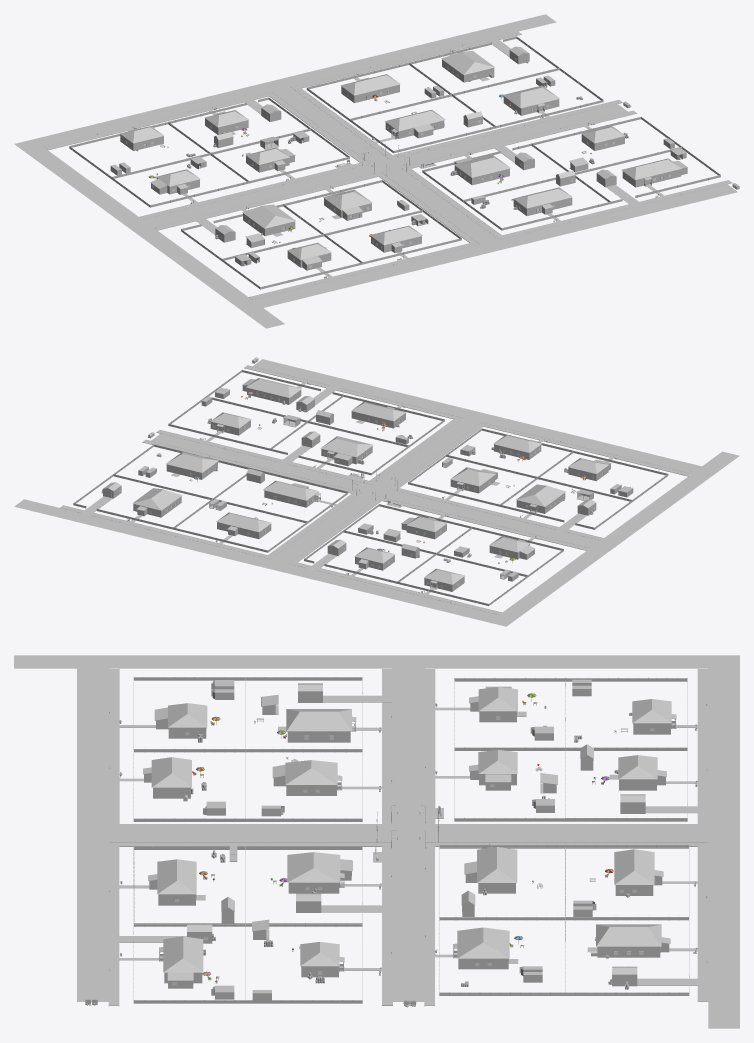
File: PuebloBigpine.fbx
3 renders of one model, top to bottom at view 1: azimuth 30°, elevation 25°; view 2: azimuth 150°, elevation 25°; view 3: azimuth 270°, elevation 25°, orthographic. The views are drawn at different scales.
Parts seen in each view (by area): view 1: Plane.001, Tropka.018, Tropka.028, Tropka.006, Zabor.025, Zabor.009, Zabor.013, Zabor.004, Roof.020, Roof, Roof.029, Roof.008 (+13 smaller); view 2: Plane.001, Tropka.018, Tropka.028, Tropka.006, Zabor.027, Zabor.009, Zabor.025, Zabor.004, Roof.020, Roof, Roof.029, Roof.008 (+12 smaller); view 3: Plane.001, Tropka.018, Tropka.028, Tropka.006, Roof.029, Roof.008, Roof, Roof.020, Roof.004, Roof.018, Roof.006, RoofHause.008 (+20 smaller).
Boxes of the visible parts, box(x1,y1,x2,y2) form: Plane.001: box(14, 14, 737, 328); Tropka.018: box(44, 91, 479, 299); Tropka.028: box(401, 110, 732, 239); Tropka.006: box(291, 31, 622, 159); Zabor.025: box(349, 94, 495, 153); Zabor.009: box(283, 179, 422, 235); Zabor.013: box(452, 68, 603, 128); Zabor.004: box(210, 128, 349, 183); Roof.020: box(242, 204, 295, 228); Roof: box(441, 50, 494, 74); Roof.029: box(454, 155, 510, 177); Roof.008: box(503, 85, 559, 108); Plane.001: box(14, 359, 739, 626); Tropka.018: box(288, 422, 691, 614); Tropka.028: box(156, 365, 462, 484); Tropka.006: box(60, 439, 361, 559); Zabor.027: box(270, 421, 409, 475); Zabor.009: box(408, 454, 537, 506); Zabor.025: box(213, 468, 348, 523); Zabor.004: box(343, 504, 472, 554); Roof.020: box(516, 484, 565, 506); Roof: box(132, 488, 182, 510); Roof.029: box(320, 436, 372, 457); Roof.008: box(166, 451, 218, 472); Plane.001: box(14, 655, 739, 1028); Tropka.018: box(108, 668, 708, 828); Tropka.028: box(108, 841, 392, 1005); Tropka.006: box(424, 841, 708, 1006); Roof.029: box(287, 852, 340, 882); Roof.008: box(457, 927, 509, 958); Roof: box(596, 924, 661, 946); Roof.020: box(286, 709, 351, 731); Roof.004: box(163, 936, 203, 972); Roof.018: box(477, 847, 517, 882); Roof.006: box(614, 849, 654, 884); RoofHause.008: box(157, 859, 196, 894).
Bounding box in the file's own units: 28005 × 758 × 23014.
